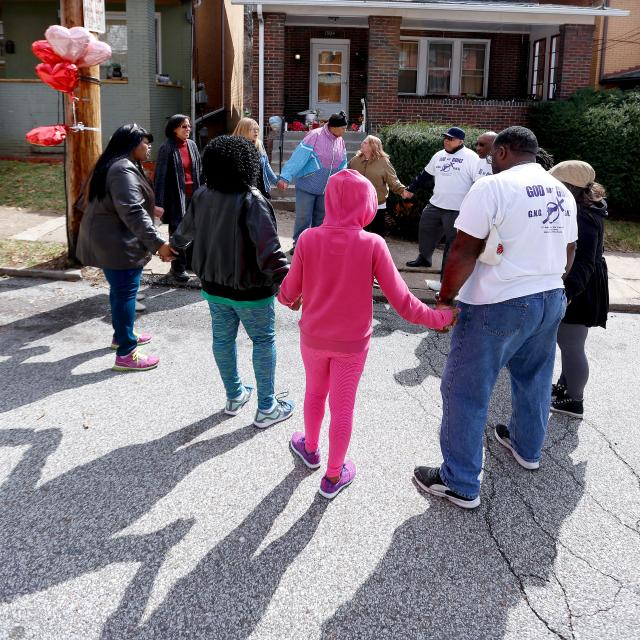body: (0, 405, 361, 640), (410, 122, 580, 512), (272, 164, 462, 502), (156, 132, 309, 432), (65, 120, 181, 373), (0, 263, 153, 411), (544, 157, 611, 419), (344, 285, 478, 403), (399, 125, 482, 268), (427, 130, 499, 292), (276, 110, 348, 256), (152, 113, 204, 283), (346, 135, 414, 241), (232, 116, 288, 201), (522, 144, 562, 180)
